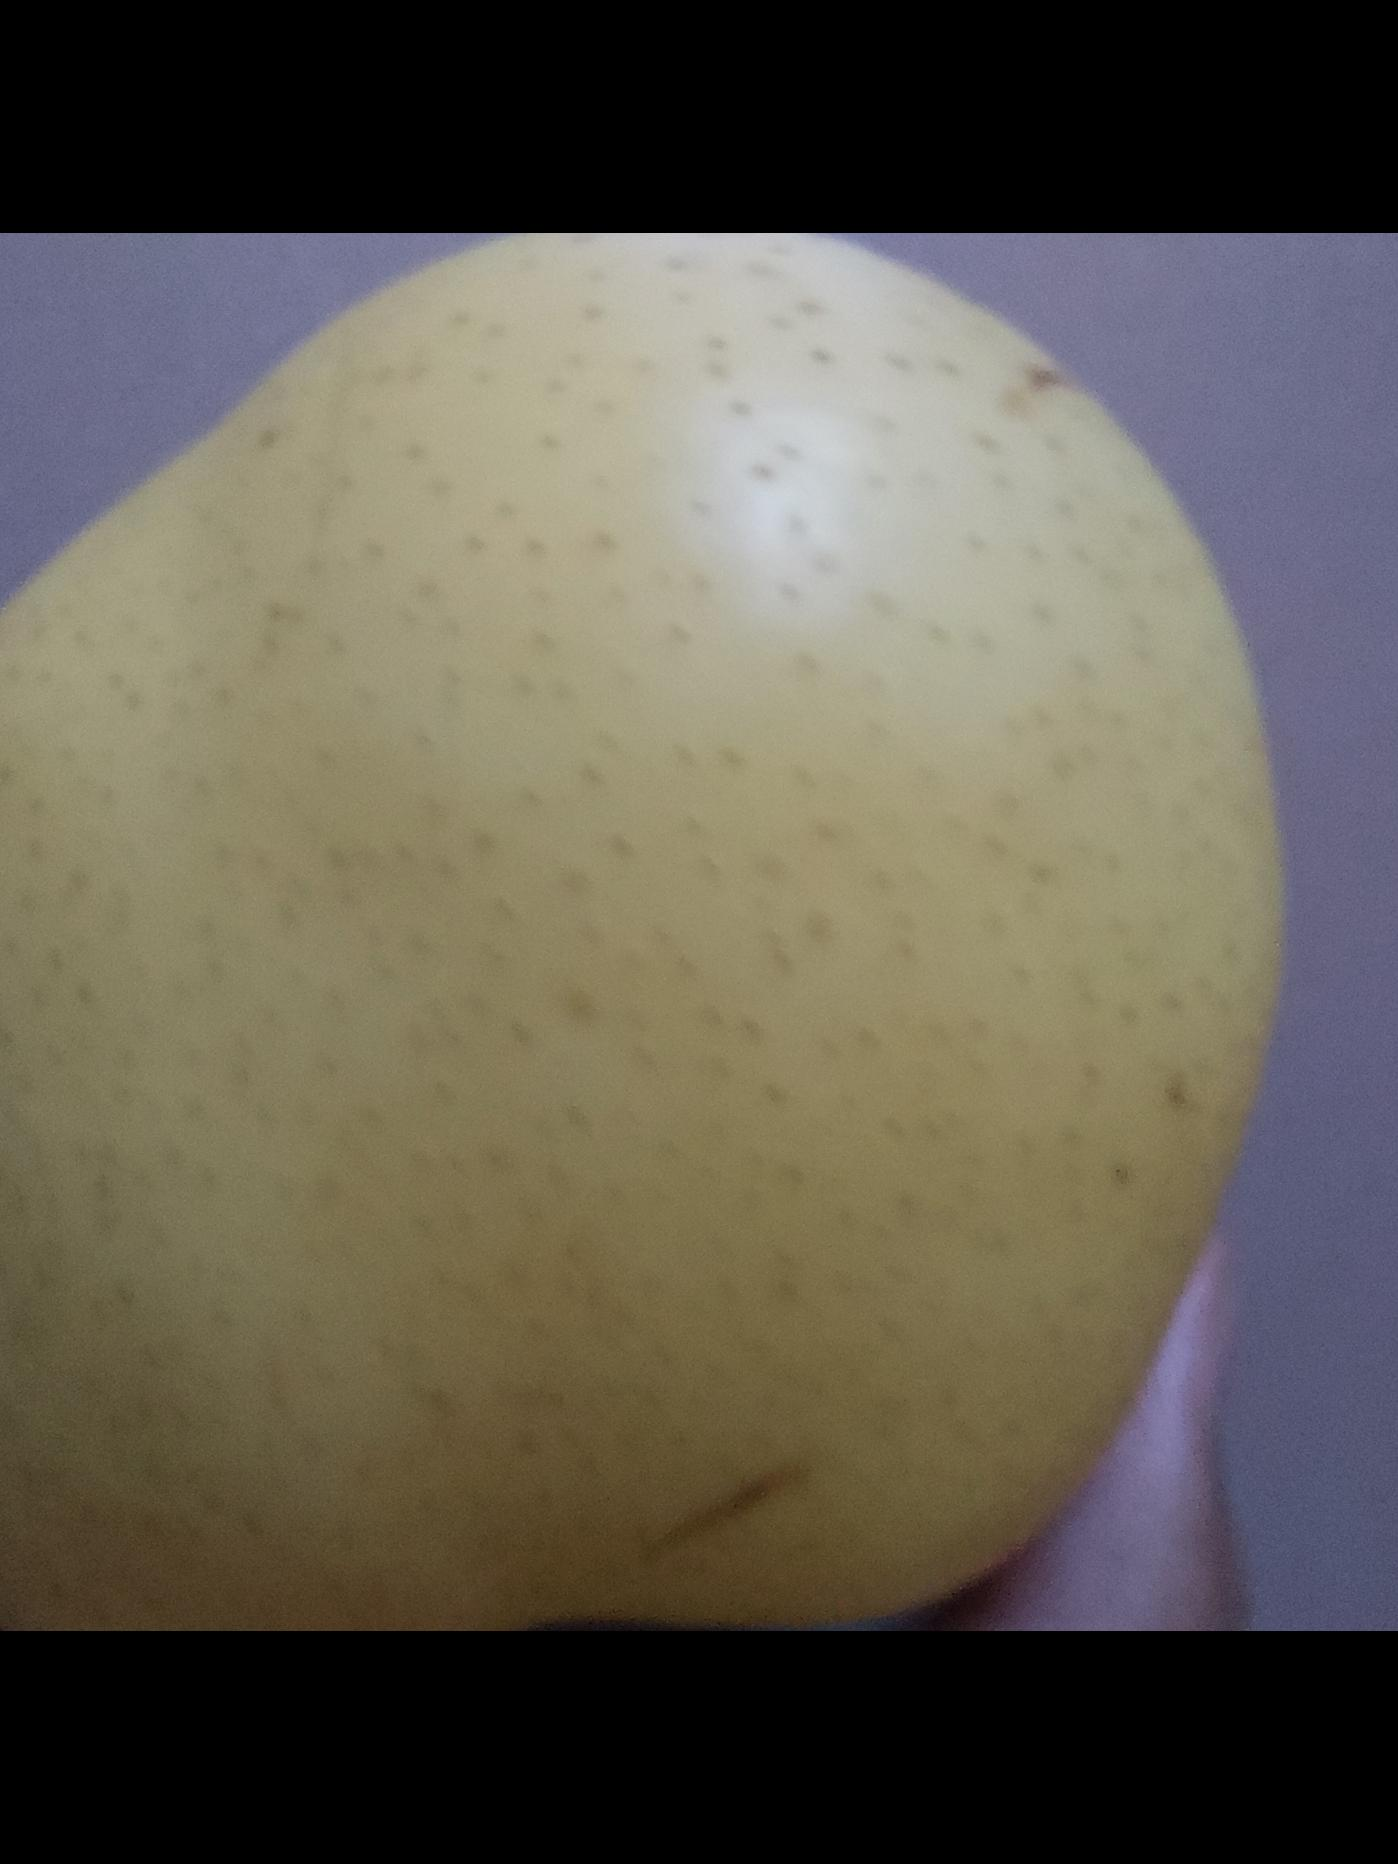Good Pear: (0, 233, 1292, 1631)
